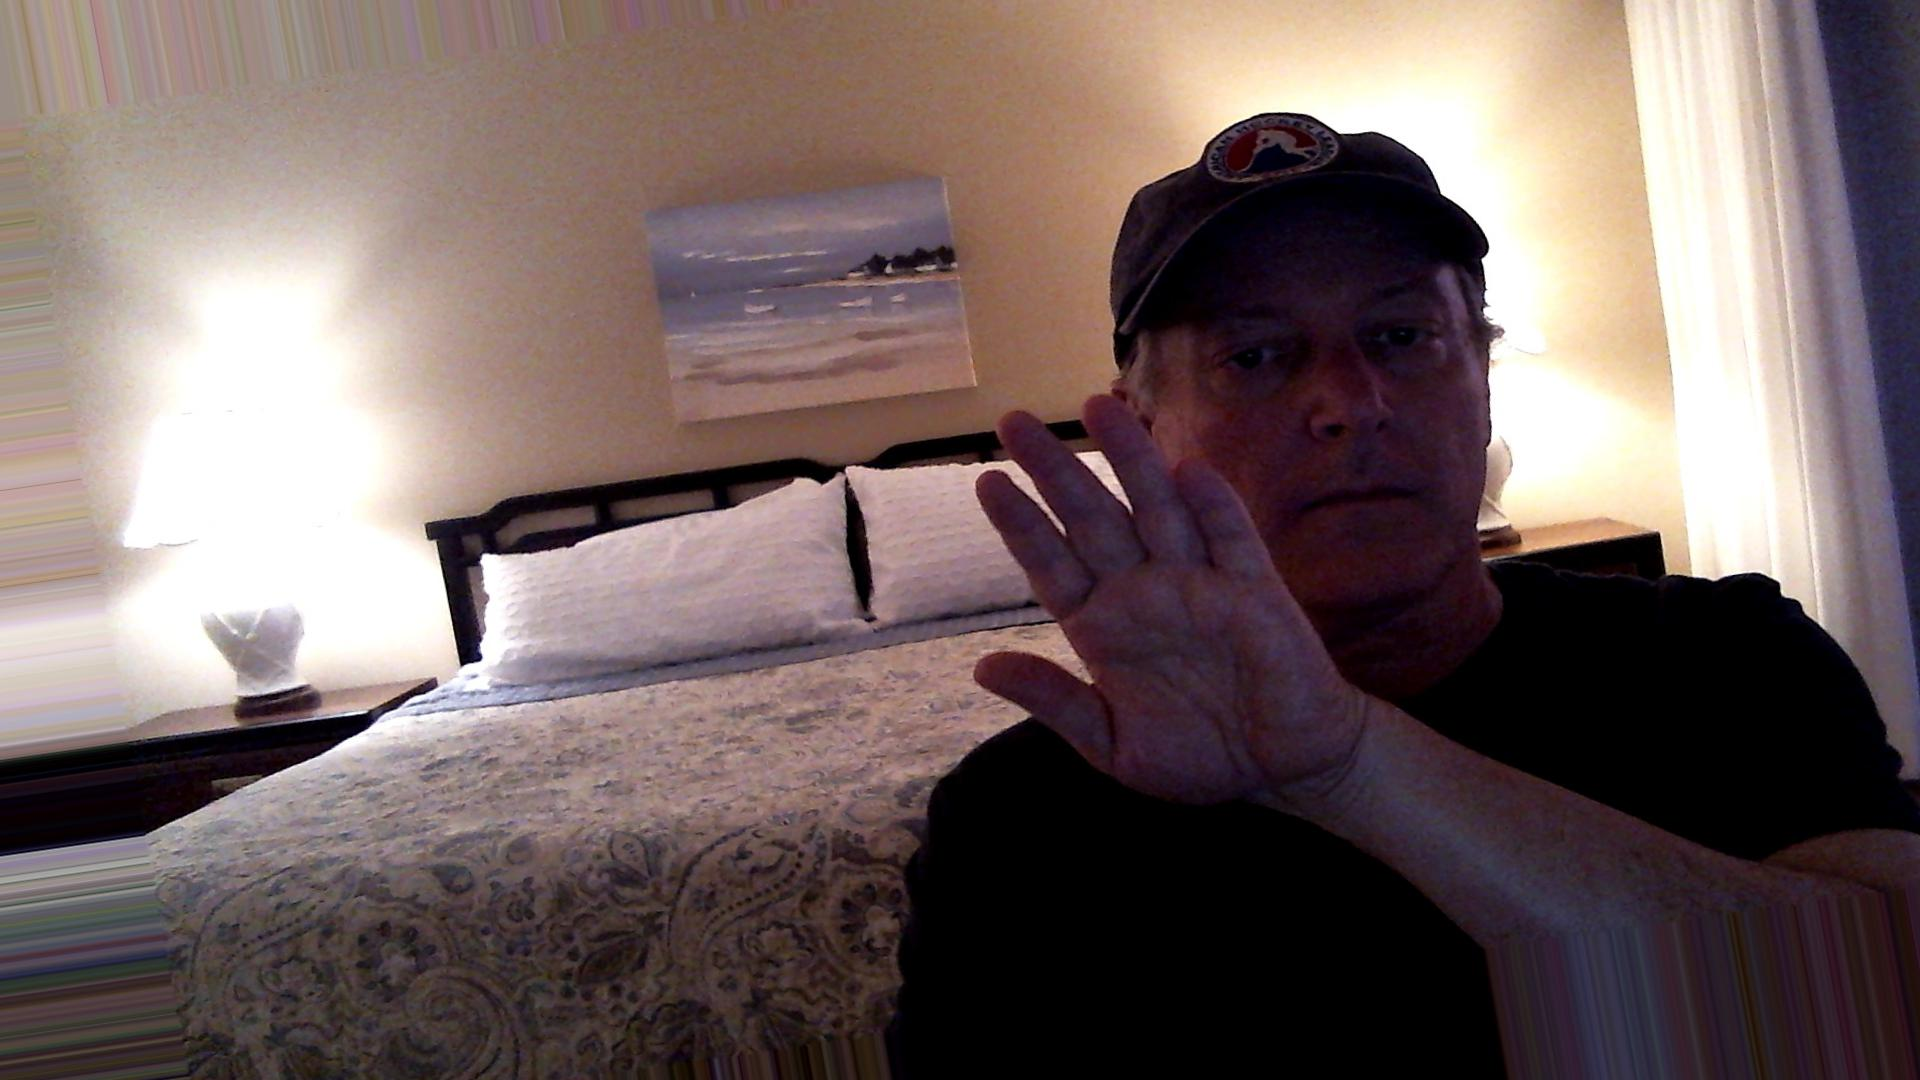Hello: (963, 380, 1364, 802)
